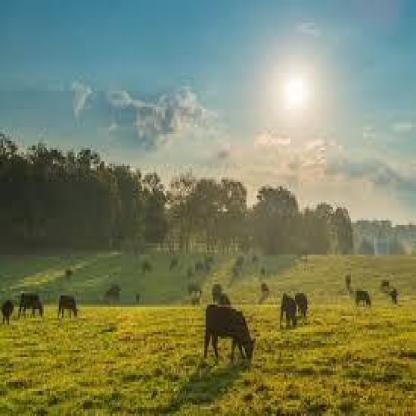cow: (203, 306, 257, 360), (19, 292, 45, 317), (280, 296, 298, 330), (56, 294, 80, 317), (100, 283, 122, 301), (2, 300, 16, 323), (298, 290, 310, 315), (211, 283, 225, 303), (353, 290, 372, 303), (259, 278, 273, 295), (188, 282, 204, 295), (380, 276, 392, 290), (390, 288, 400, 304)
